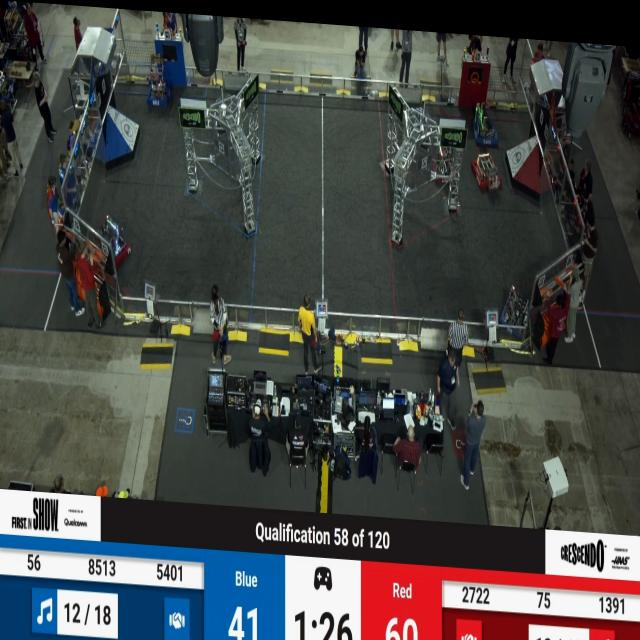Robot: (498, 271, 536, 336), (102, 213, 132, 268), (472, 143, 504, 190), (432, 121, 455, 181), (146, 53, 170, 109), (474, 96, 500, 141)
